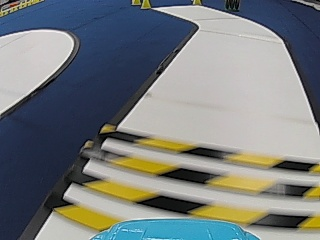bump: (60, 129, 319, 235)
